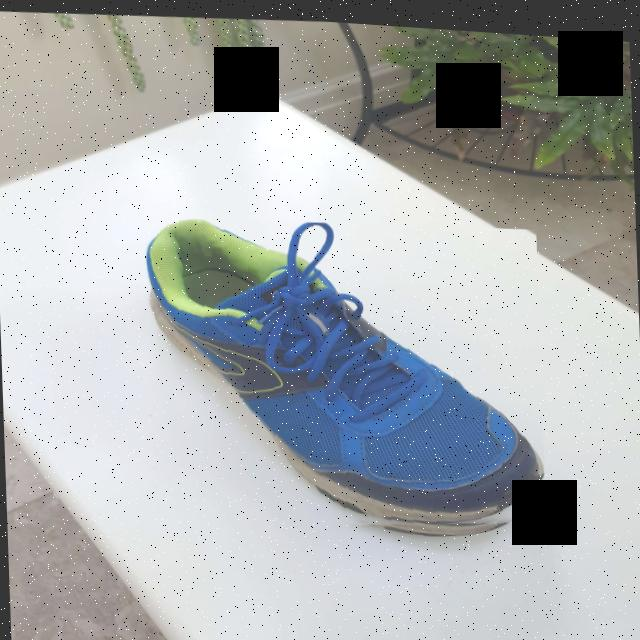shoe: (144, 201, 546, 546)
